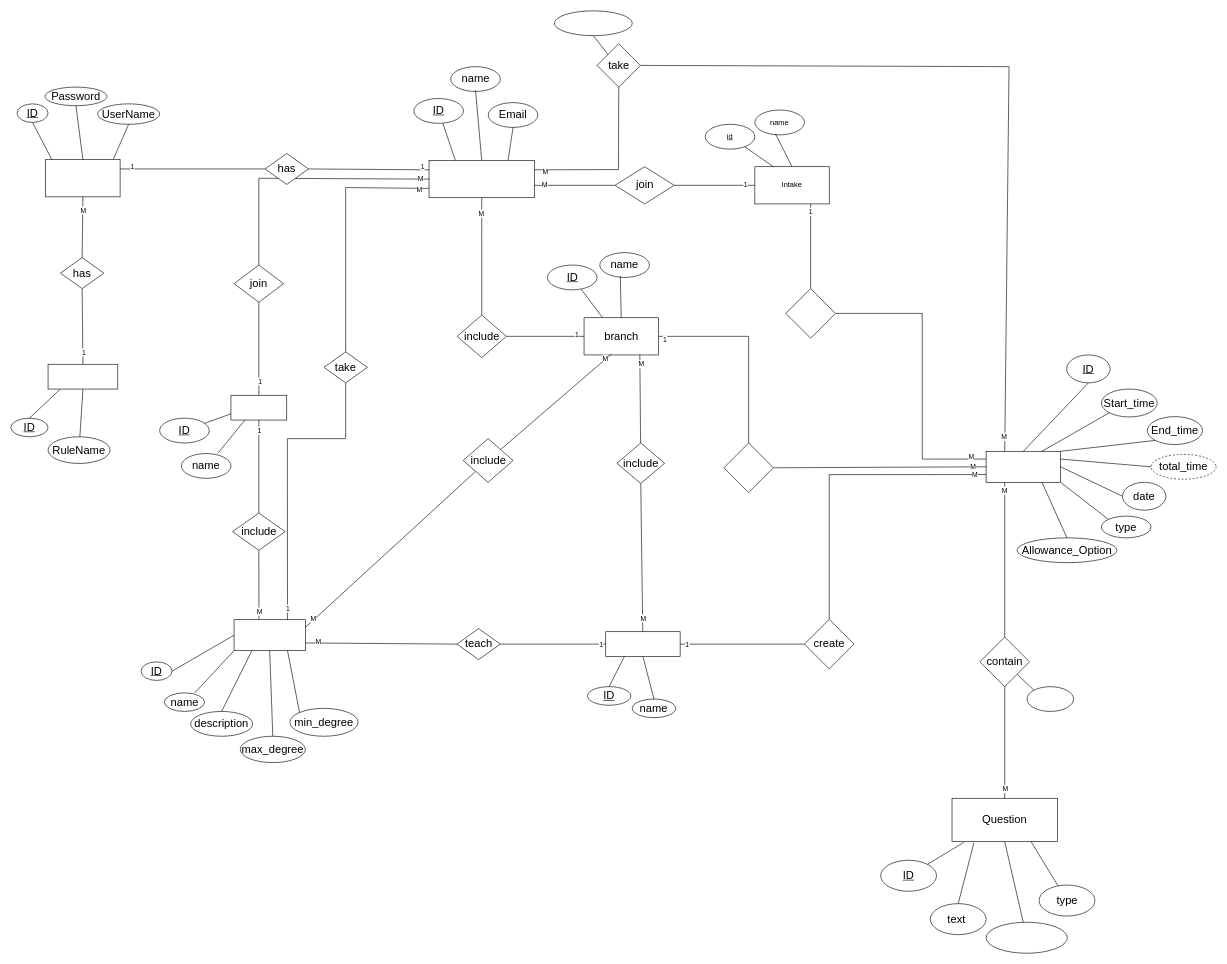
Some shapes in this 1227 by 964 pixel diagram are drawn without their labels. The shapes that lost their labels are listed below. From the top down, each one's centre as x and y in pixels, then its label:
[593,23]: total_degree
[82,178]: User
[481,179]: Student
[810,313]: belongs to
[82,376]: Role
[258,407]: Track
[748,467]: token in
[1023,466]: Exam
[269,635]: Course
[642,644]: Instructor
[1050,698]: degree
[1026,937]: Model_answer
